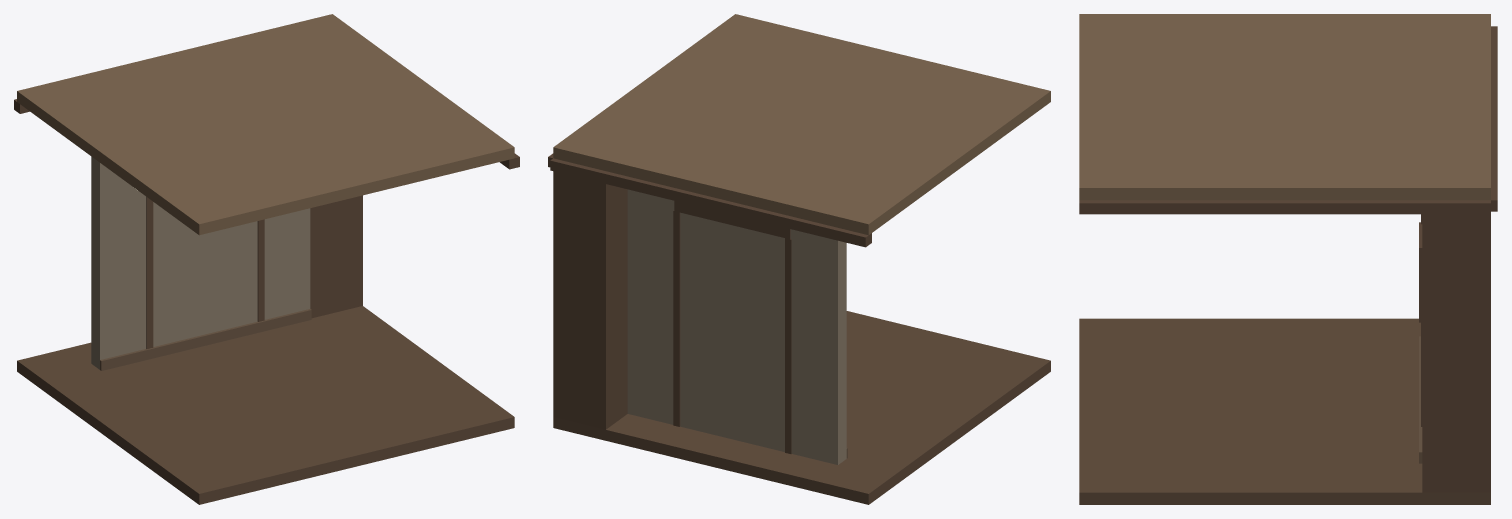
Rendered from izakaya_corridor_kit.glb.
3 views of the same model, side by side, from view 1: azimuth 30°, elevation 25°; view 2: azimuth 150°, elevation 25°; view 3: azimuth 270°, elevation 25° (orthographic). The views are drawn at different scales.
Visible parts, largest first — view 1: Kit_Core, Kit_Wall, Door_Static; view 2: Kit_Core, Kit_Wall, Door_Static; view 3: Kit_Core, Door_Static.
Part boxes in pixels (x1,y1,x2,y2): Kit_Core: (14,14,519,504); Kit_Wall: (91,156,311,370); Door_Static: (92,186,311,369); Kit_Core: (548,14,1050,504); Kit_Wall: (627,189,847,464); Door_Static: (627,190,846,455); Kit_Core: (1079,14,1497,504); Door_Static: (1419,214,1422,450).
Size of the model in its own units: 3.05 by 2.55 by 3.05.
